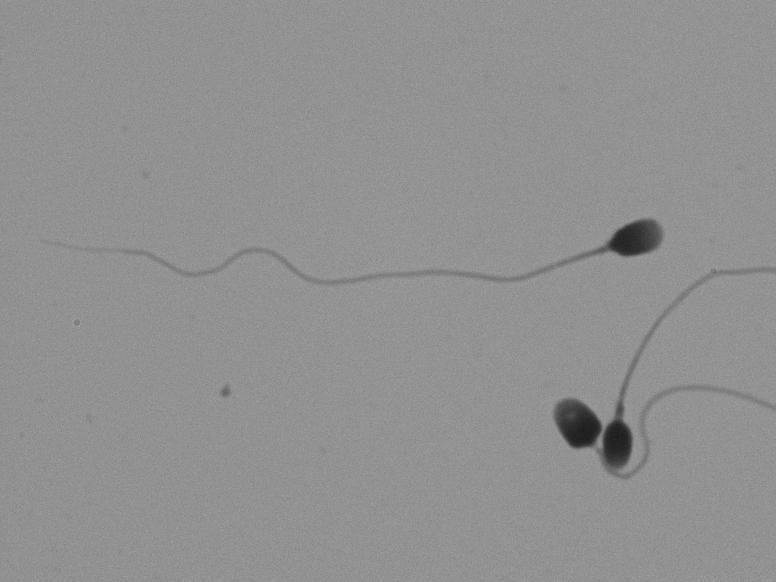Abnormal: (535, 339, 604, 462)
Normal: (27, 142, 679, 301), (602, 316, 714, 495)
